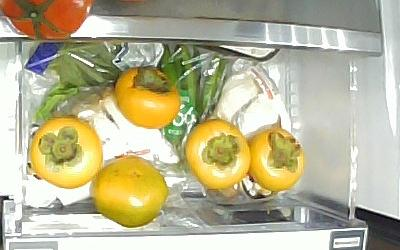persimmon: (93, 155, 167, 228), (30, 117, 102, 190), (184, 120, 251, 191), (115, 66, 180, 130), (248, 127, 305, 193)
